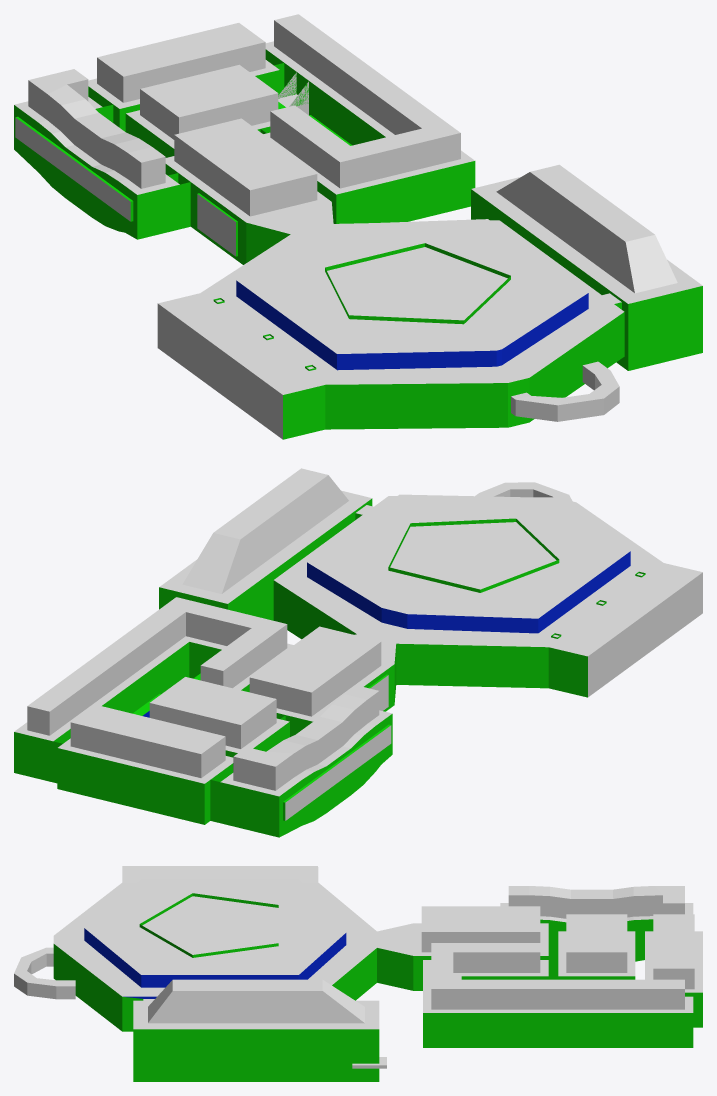
The model's file is Floor 12.fbx.
3 renders of one model, top to bottom at view 1: azimuth 30°, elevation 25°; view 2: azimuth 150°, elevation 25°; view 3: azimuth 270°, elevation 25°, orthographic. The views are drawn at different scales.
Visible parts, largest first — view 1: Cube; view 2: Cube; view 3: Cube.
Boxes of the visible parts, left/top/right/bottom form: Cube: left=14, top=14, right=702, bottom=439; Cube: left=14, top=468, right=702, bottom=837; Cube: left=14, top=866, right=702, bottom=1081.
Bounding box in the file's own units: 8066 × 1882 × 14275.
